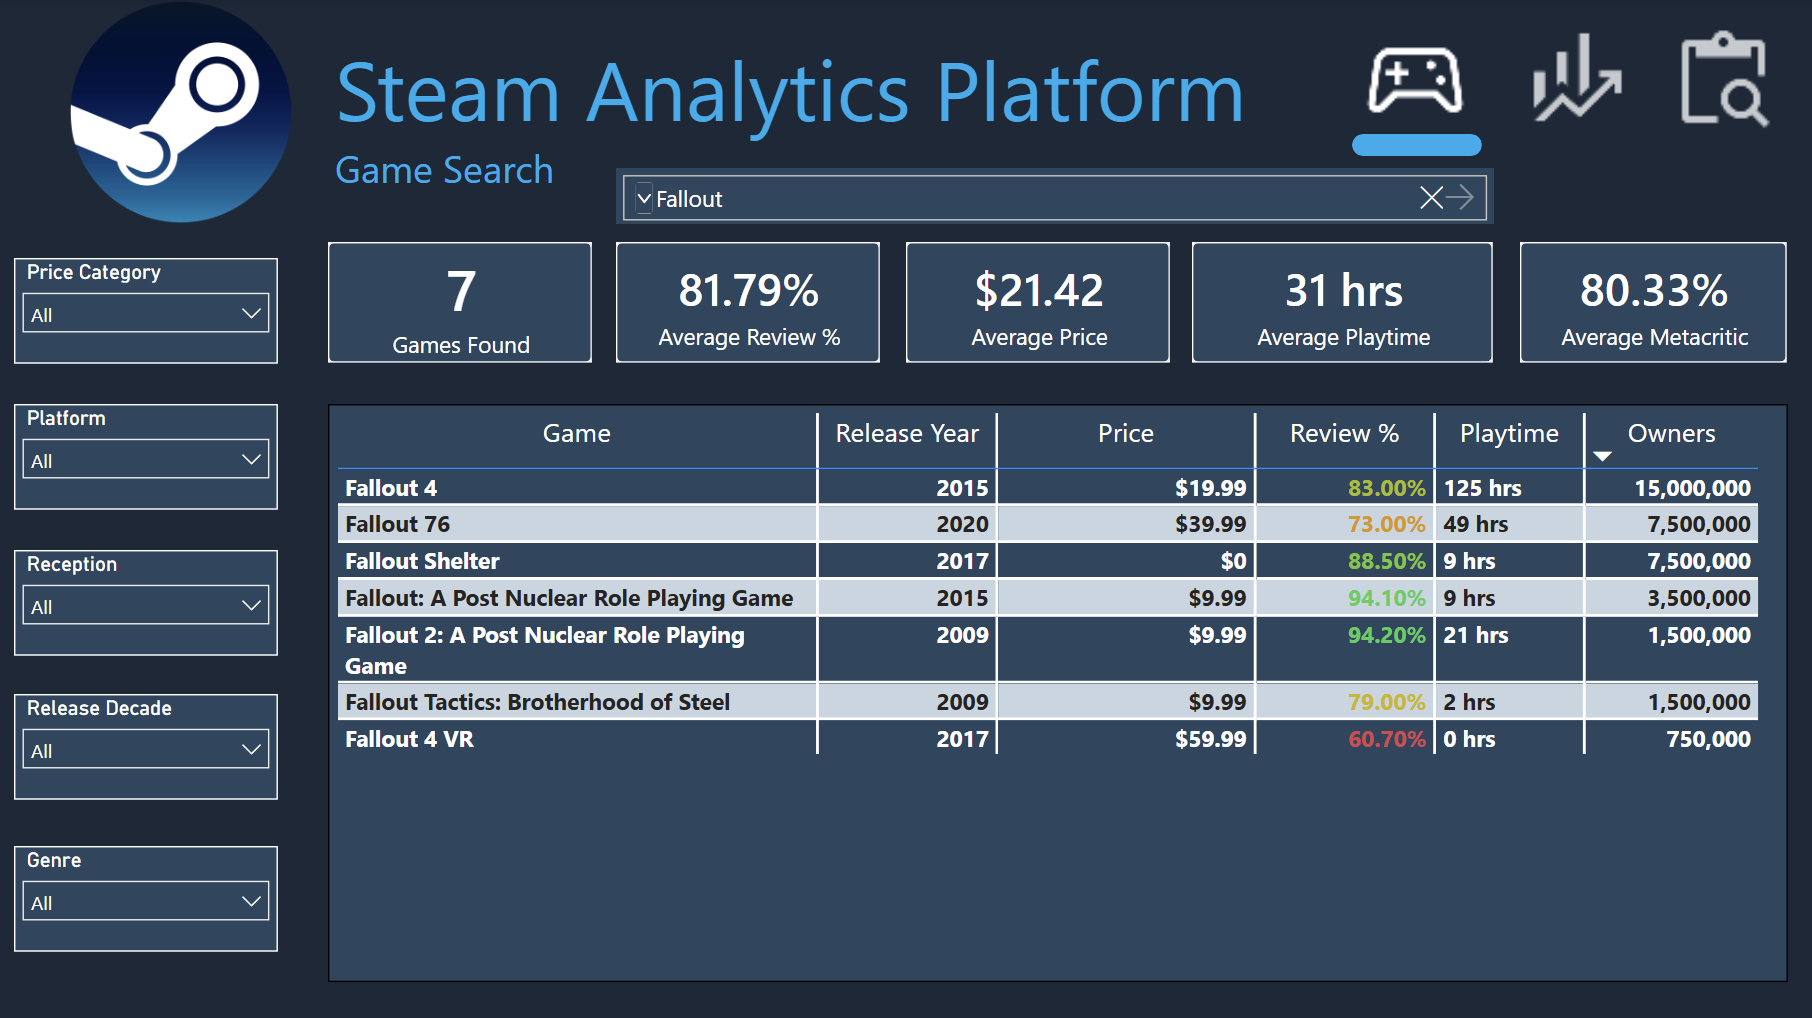

The page's visual inventory and layout, read from the dashboard file:
{"tool":"powerbi","page":{"name":"Game Search","canvas":[1280,720],"ordinal":0},"visuals":[{"type":"textbox","box":[232.6,16.9,1022,142.4],"z":0},{"type":"slicer","fields":{"Values":["games_gold.price_bucket"]},"box":[11.3,170.6,186.1,74.7],"z":1000},{"type":"slicer","fields":{"Values":["games_gold.release_decade"]},"box":[11.3,506.1,186.1,74.7],"z":2000},{"type":"slicer","fields":{"Values":["games_gold.playtime_bucket"]},"box":[11.3,617.4,186.1,74.7],"z":3000},{"type":"slicer","fields":{"Values":["games_gold.review_category"]},"box":[11.3,397.5,186.1,74.7],"z":4000},{"type":"slicer","fields":{"Values":["platforms.Platform"]},"box":[11.3,284.8,186.1,74.7],"z":5000},{"type":"cardVisual","fields":{"Data":["games_gold.Games Found"]},"box":[232.6,170.6,186.1,86],"z":6000},{"type":"cardVisual","fields":{"Data":["games_gold.Average Review %"]},"box":[435.6,170.6,186.1,86],"z":7000},{"type":"cardVisual","fields":{"Data":["games_gold.Average Price"]},"box":[640,170.6,186.1,86],"z":8000},{"type":"cardVisual","fields":{"Data":["games_gold.Average Playtime (hrs)"]},"box":[841.6,170.6,212.9,86],"z":9000},{"type":"cardVisual","fields":{"Data":["games_gold.Average Metacritic"]},"box":[1072.8,170.6,188.9,86],"z":10000},{"type":"image","box":[0,0,258,157.9],"z":11000},{"type":"tableEx","fields":{"Values":["games_gold.game_name","games_gold.price","games_gold.Average Review %","games_gold.Average Playtime (hrs)","games_gold.release_year","games_gold.estimated_owner_midpoint"]},"box":[232.6,284.8,1029.1,407.4],"z":12000},{"type":"textSlicer","fields":{"Values":["games_gold.game_name"]},"box":[435.6,118.4,618.9,39.5],"z":12001},{"type":"image","box":[960,16.9,78,78.9],"z":12002},{"type":"image","box":[1072.8,16.9,78,78],"z":12003},{"type":"shape","box":[954.4,94,91.6,15.5],"z":12005},{"type":"image","box":[1177.1,18.3,78,78],"z":12006}]}

Visuals, with their boxes in screenshot pixels (x1, y1, x2, y2), scaled from the page's 1280x720 canvas onto the 1812x1018 screenshot:
textbox: x1=329, y1=24, x2=1776, y2=225
slicer - games_gold.price_bucket: x1=16, y1=241, x2=279, y2=347
slicer - games_gold.release_decade: x1=16, y1=716, x2=279, y2=821
slicer - games_gold.playtime_bucket: x1=16, y1=873, x2=279, y2=979
slicer - games_gold.review_category: x1=16, y1=562, x2=279, y2=668
slicer - platforms.Platform: x1=16, y1=403, x2=279, y2=508
cardVisual - games_gold.Games Found: x1=329, y1=241, x2=593, y2=363
cardVisual - games_gold.Average Review %: x1=617, y1=241, x2=880, y2=363
cardVisual - games_gold.Average Price: x1=906, y1=241, x2=1169, y2=363
cardVisual - games_gold.Average Playtime (hrs): x1=1191, y1=241, x2=1493, y2=363
cardVisual - games_gold.Average Metacritic: x1=1519, y1=241, x2=1786, y2=363
image: x1=0, y1=0, x2=365, y2=223
tableEx - games_gold.game_name x games_gold.price: x1=329, y1=403, x2=1786, y2=979
textSlicer - games_gold.game_name: x1=617, y1=167, x2=1493, y2=223
image: x1=1359, y1=24, x2=1469, y2=135
image: x1=1519, y1=24, x2=1629, y2=134
shape: x1=1351, y1=133, x2=1481, y2=155
image: x1=1666, y1=26, x2=1777, y2=136
